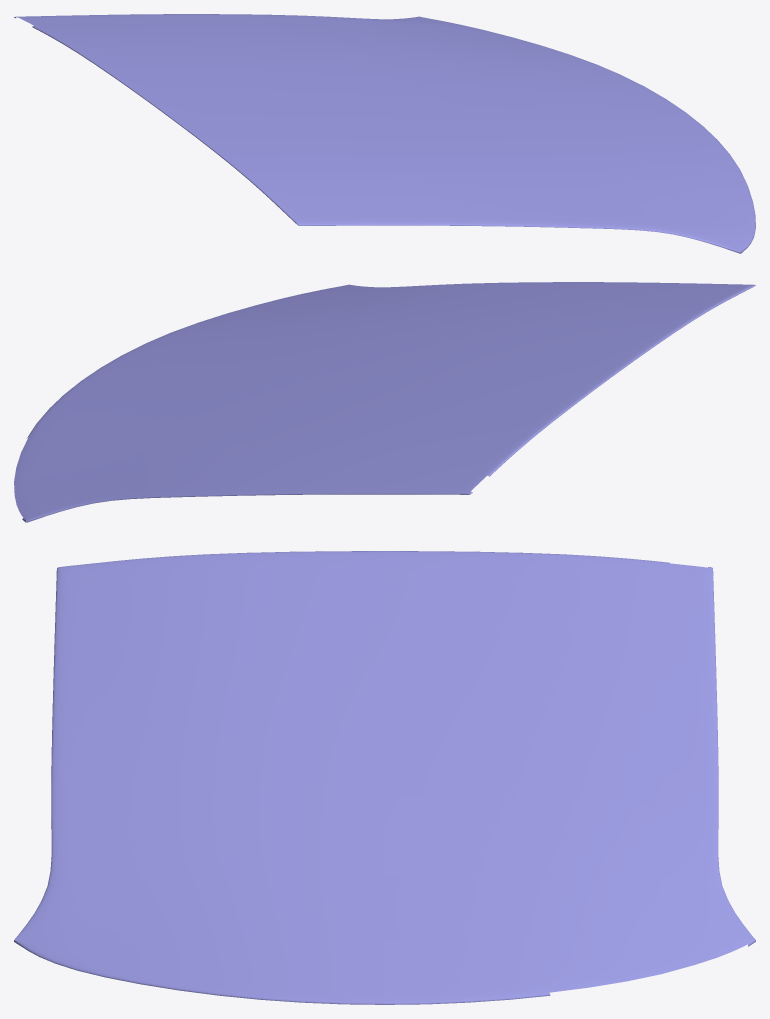
The model's file is cofre.obj.
3 views of the same model, one above another, from view 1: azimuth 30°, elevation 25°; view 2: azimuth 150°, elevation 25°; view 3: azimuth 270°, elevation 25° (orthographic). The views are drawn at different scales.
Visible parts, largest first — view 1: cofre001, cofre; view 2: cofre001, cofre; view 3: cofre001, cofre.
Part boxes in pixels (x1,y1,x2,y2): cofre001: [66, 24, 755, 253]; cofre: [14, 14, 684, 111]; cofre001: [64, 282, 755, 477]; cofre: [14, 374, 610, 522]; cofre001: [14, 551, 669, 1004]; cofre: [385, 552, 755, 1004].
Bounding box in the file's own units: 8.6 × 2.13 × 9.06.
